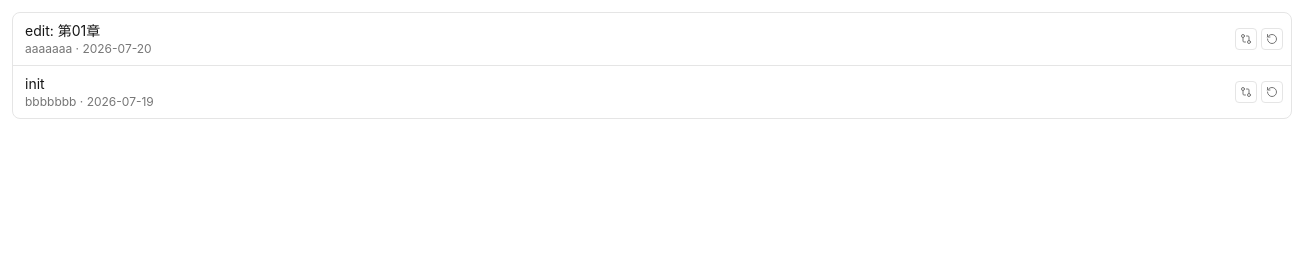
Test: HistoryPanel › diffs against the chosen base once a compare target is picked
Click the text "edit: 第01章" at (63, 31), box [25,21,100,41]
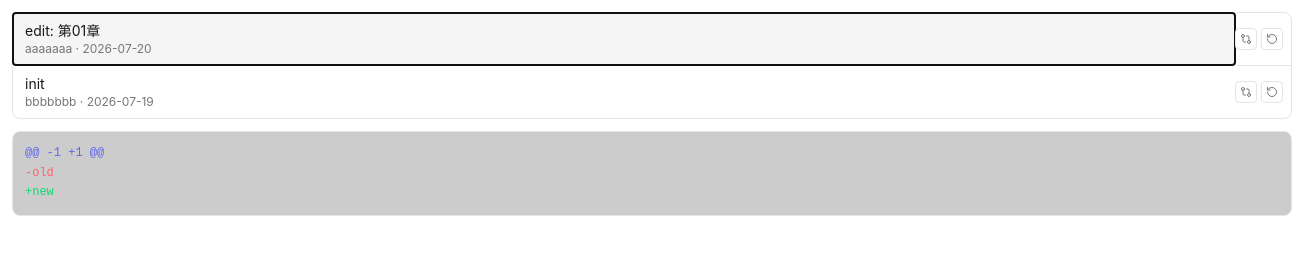
Click the button named "novels.compareWith bbbbbbb" at (1246, 92), box [1235,81,1257,103]
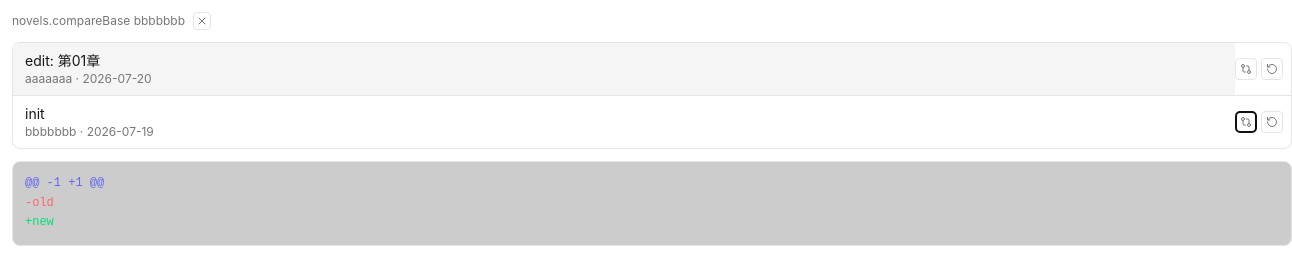
Expected: the text with test id "compare-base" shows "bbbbbbb", [12,13,185,28]
